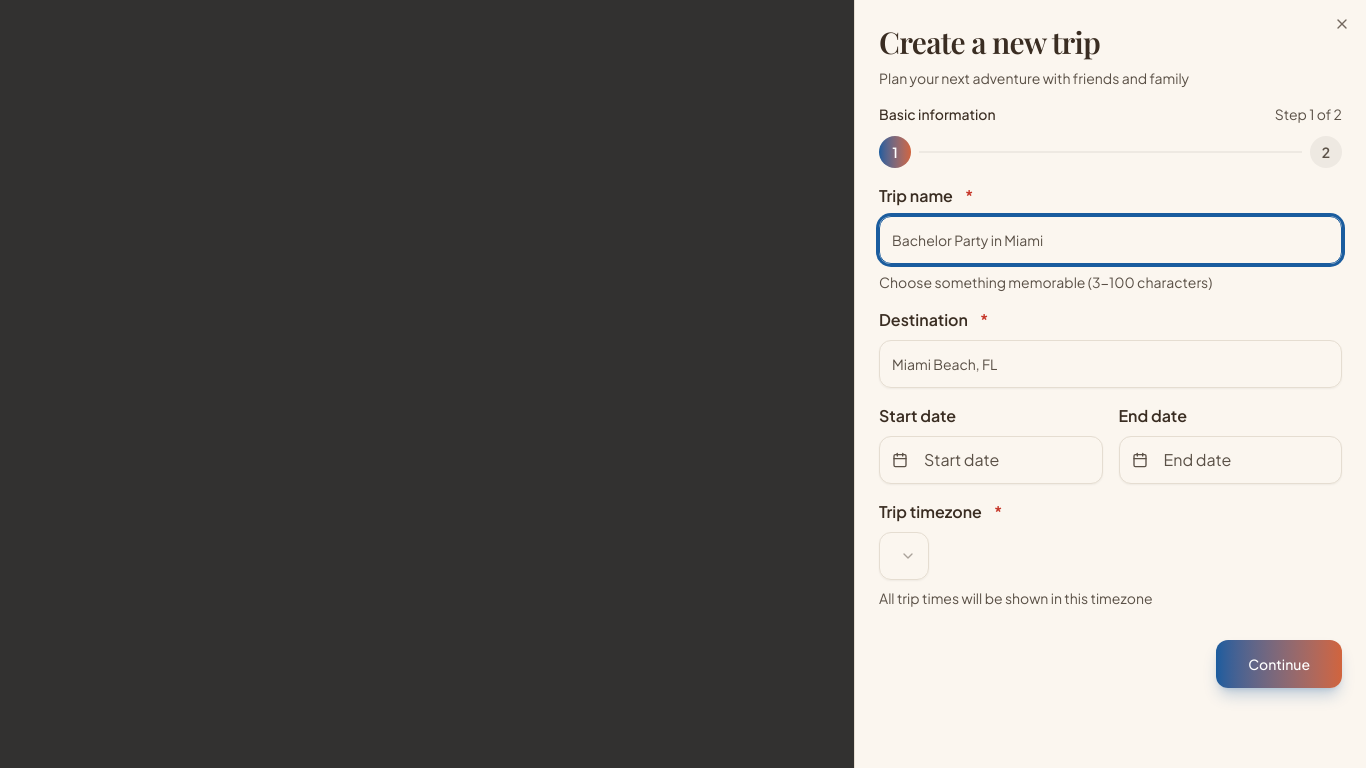
Test case: CreateTripDialog › Field validation - Trip name › shows error when trip name is too short
Type "AB" into the field labelled "Trip name *" at (1110, 240), box [879,216,1342,264]
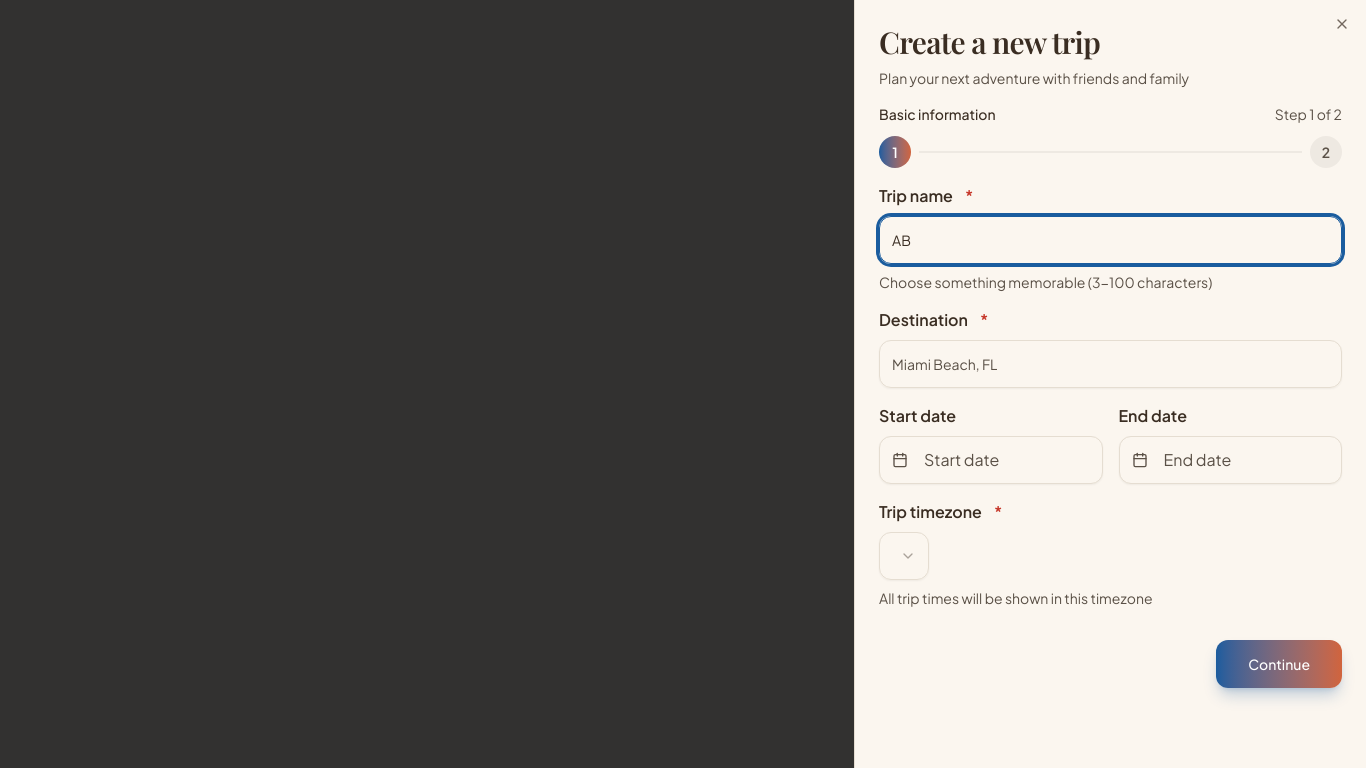
Click the button "Continue" at (1279, 664), box [1216,640,1342,688]
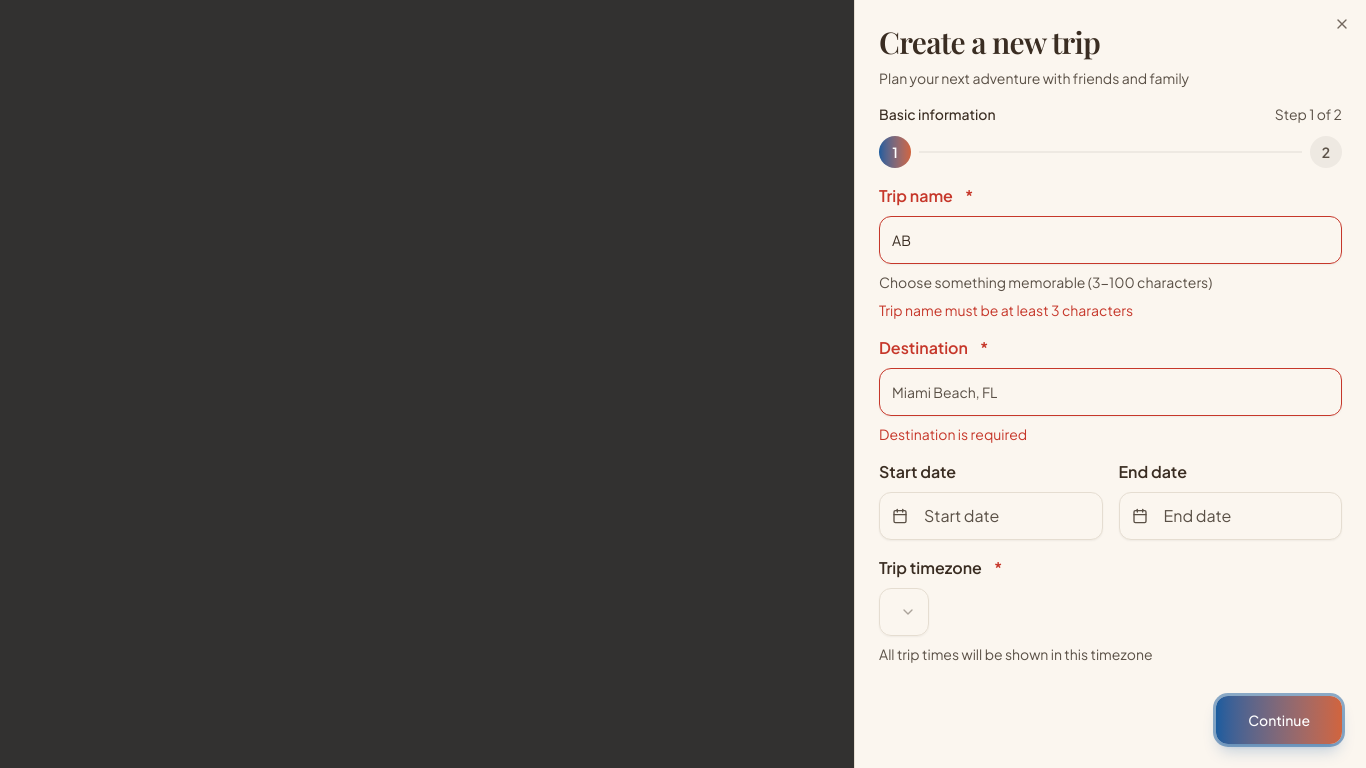
Now the text "Trip name must be at least 3 characters" is shown, box [879,301,1133,319]
